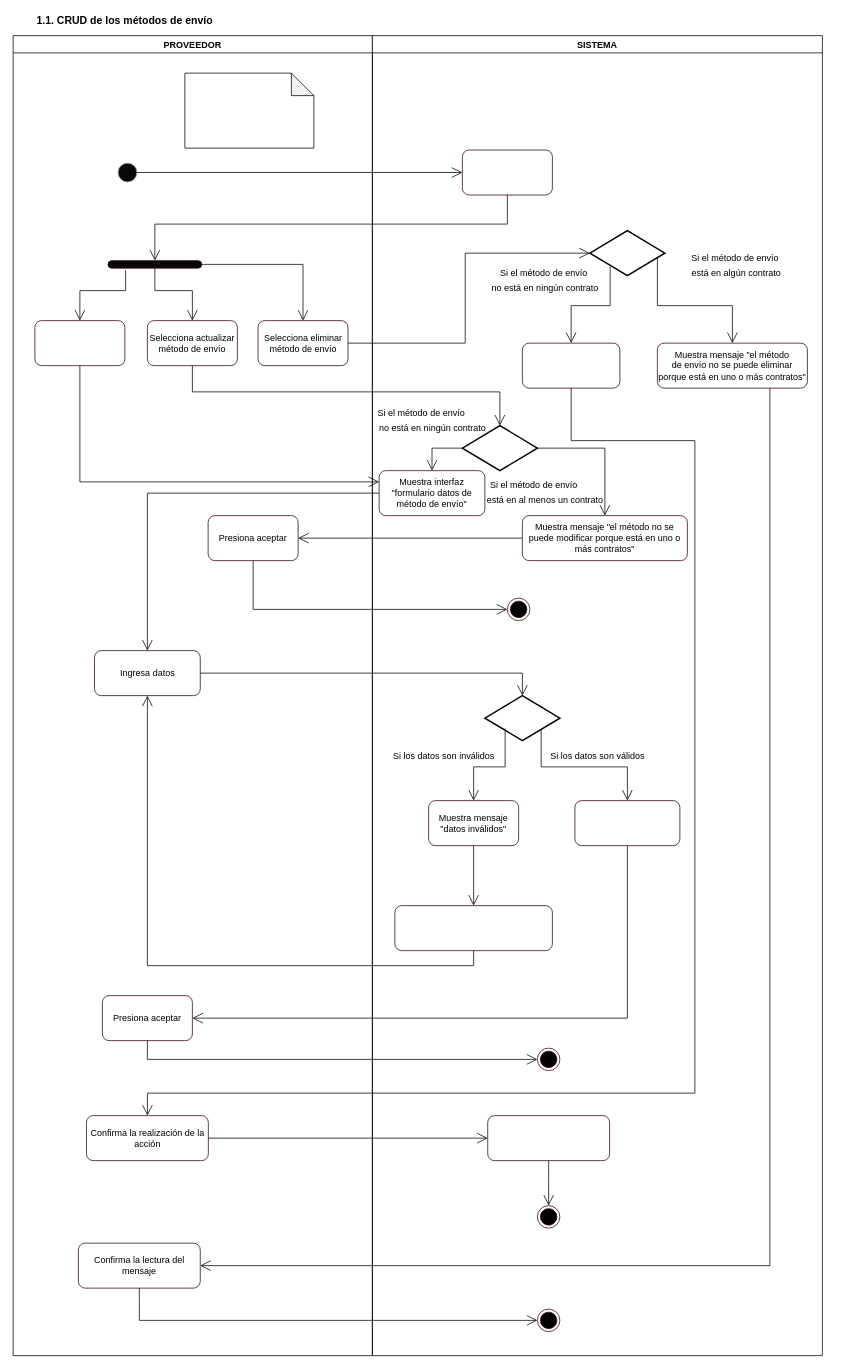
Image size: 866x1369. Some labels were removed from this diagram. The box of each missing label's shape, as (x1, y1, x2, y2) in pixels:
Elimina el método de envío respectivo: (487, 1115, 610, 1161)
Este flujo se inicia cuando el proveedor selecciona métodos de envío: (184, 72, 314, 148)
Muestra interfaz "métodos de envío": (462, 149, 552, 195)
Muestra mensaje "operación realizada con éxito": (574, 800, 680, 846)
Muestra mensaje pidiendo la confirmación: (522, 342, 620, 388)
Resalta los datos inválidos y muestra el formato adecuado: (394, 905, 552, 951)
Selecciona crear método de envío: (34, 320, 125, 366)
